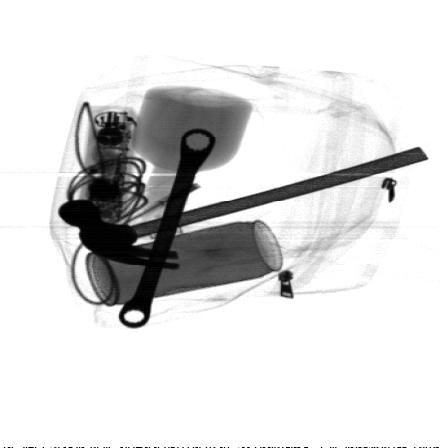Hammer: (58, 146, 428, 268)
Wrench: (119, 128, 217, 331)
